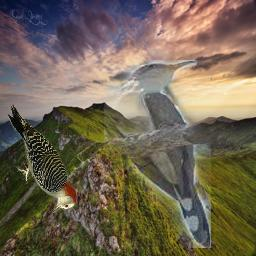Cuckoo: (105, 60, 212, 248)
Woodpecker: (7, 105, 80, 214)
